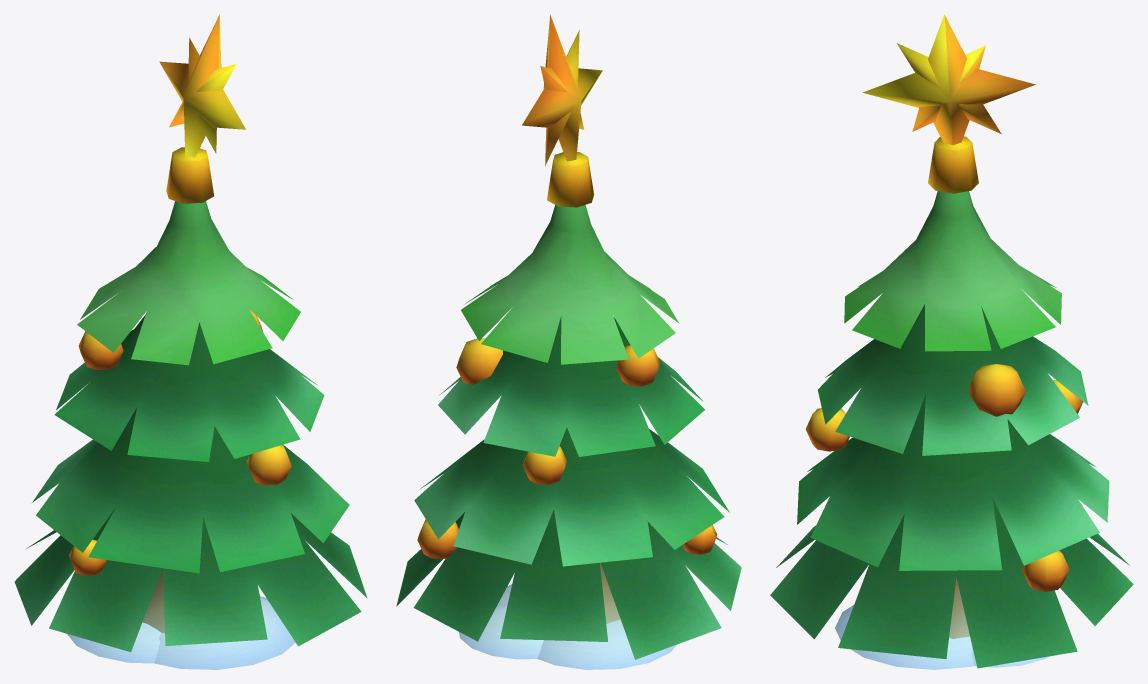
Rendered from FloorDecoXmas-002_02_03_7411.fbx.
3 views of the same model, side by side, from view 1: azimuth 30°, elevation 25°; view 2: azimuth 150°, elevation 25°; view 3: azimuth 270°, elevation 25° (orthographic). The views are drawn at different scales.
Visible parts, largest first — view 1: Tree2; view 2: Tree2; view 3: Tree2.
Part boxes in pixels (left/top/right/bottom): Tree2: left=14, top=14, right=367, bottom=669; Tree2: left=396, top=14, right=741, bottom=669; Tree2: left=770, top=14, right=1133, bottom=669.
Size of the model in its own units: 2.33 by 4.32 by 2.29.
